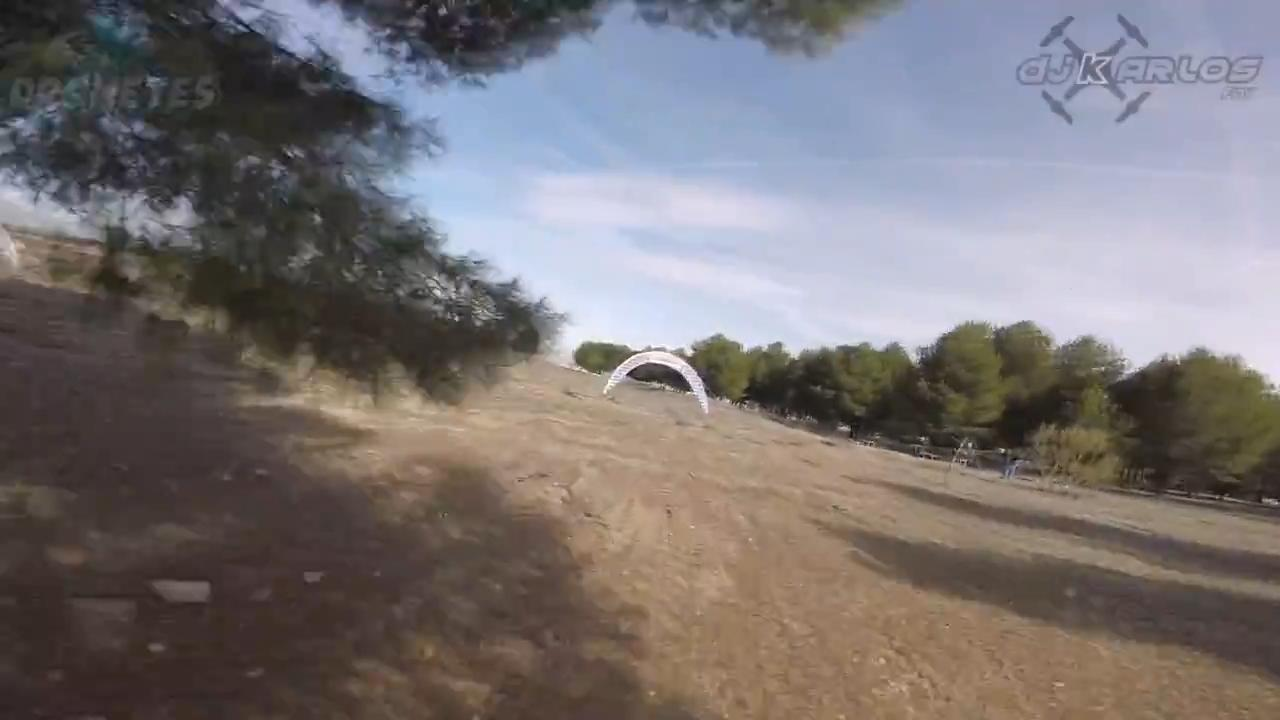gate: (608, 350, 716, 425)
